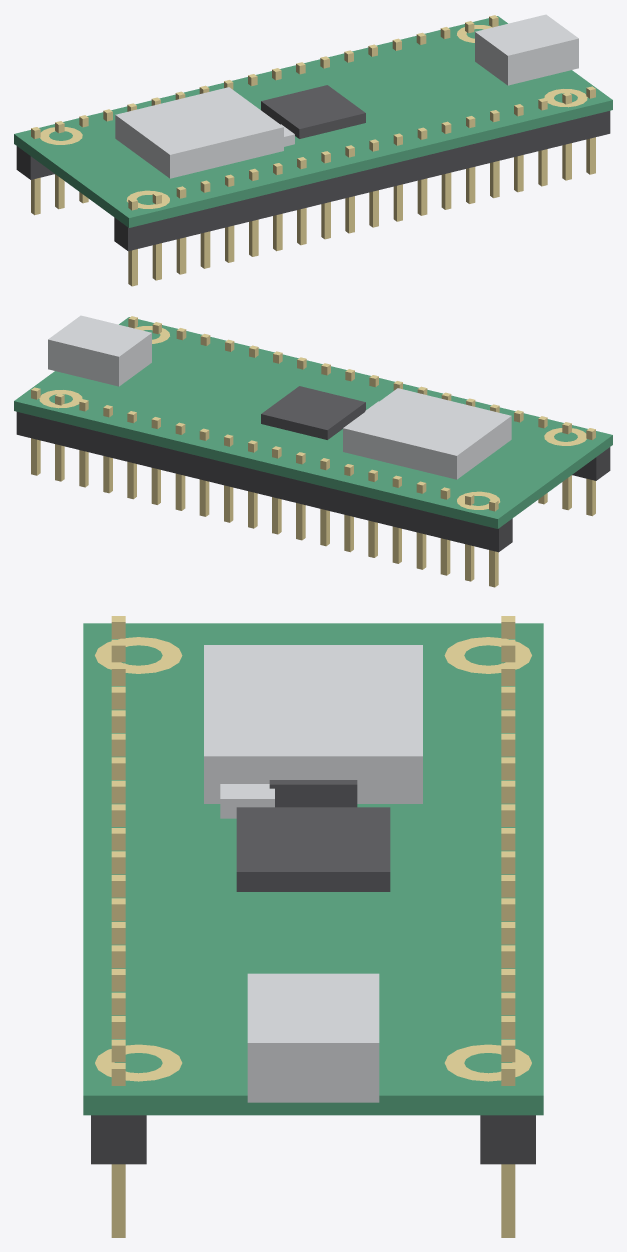
Rendered from rpi-pico-w.glb.
3 views of the same model, one above another, from view 1: azimuth 30°, elevation 25°; view 2: azimuth 150°, elevation 25°; view 3: azimuth 270°, elevation 25° (orthographic). The views are drawn at different scales.
Parts seen in each view (by area): view 1: rpi-pico-w-pcb, rpi-pico-w-metal, rpi-pico-w-pins, rpi-pico-w-plastic, rpi-pico-w-ic, rpi-pico-w-mounting-pads; view 2: rpi-pico-w-pcb, rpi-pico-w-metal, rpi-pico-w-pins, rpi-pico-w-plastic, rpi-pico-w-ic, rpi-pico-w-mounting-pads; view 3: rpi-pico-w-pcb, rpi-pico-w-metal, rpi-pico-w-pins, rpi-pico-w-ic, rpi-pico-w-mounting-pads, rpi-pico-w-plastic.
Boxes of the visible parts, x1=… form: rpi-pico-w-pcb: x1=14, y1=16, x2=612, y2=227; rpi-pico-w-metal: x1=115, y1=14, x2=578, y2=178; rpi-pico-w-pins: x1=31, y1=15, x2=595, y2=286; rpi-pico-w-plastic: x1=16, y1=111, x2=610, y2=251; rpi-pico-w-ic: x1=261, y1=85, x2=365, y2=138; rpi-pico-w-mounting-pads: x1=40, y1=25, x2=587, y2=208; rpi-pico-w-pcb: x1=14, y1=317, x2=612, y2=528; rpi-pico-w-metal: x1=48, y1=315, x2=511, y2=479; rpi-pico-w-pins: x1=31, y1=316, x2=595, y2=587; rpi-pico-w-plastic: x1=16, y1=412, x2=610, y2=552; rpi-pico-w-ic: x1=261, y1=386, x2=365, y2=439; rpi-pico-w-mounting-pads: x1=39, y1=326, x2=586, y2=509; rpi-pico-w-pcb: x1=83, y1=623, x2=543, y2=1115; rpi-pico-w-metal: x1=204, y1=645, x2=422, y2=1102; rpi-pico-w-pins: x1=111, y1=616, x2=515, y2=1237; rpi-pico-w-ic: x1=236, y1=780, x2=390, y2=891; rpi-pico-w-mounting-pads: x1=95, y1=637, x2=531, y2=1081; rpi-pico-w-plastic: x1=91, y1=1115, x2=535, y2=1164.
Size of the model in its own units: 0.0517 by 0.0107 by 0.021.
